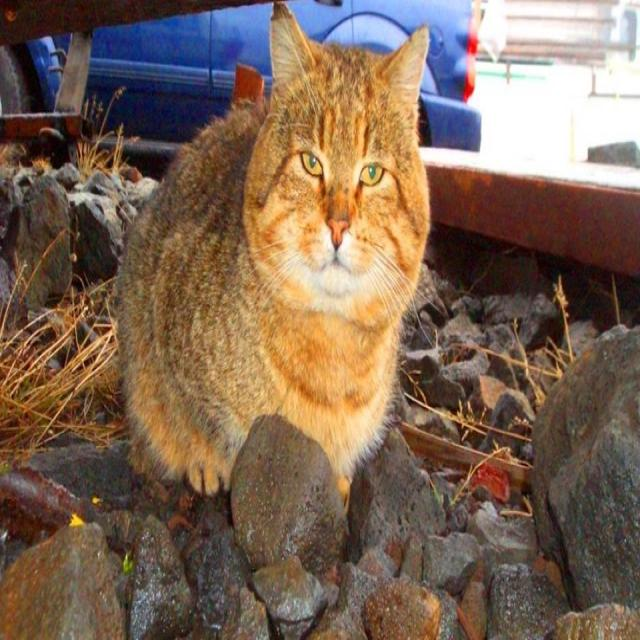cat: (118, 7, 430, 494)
